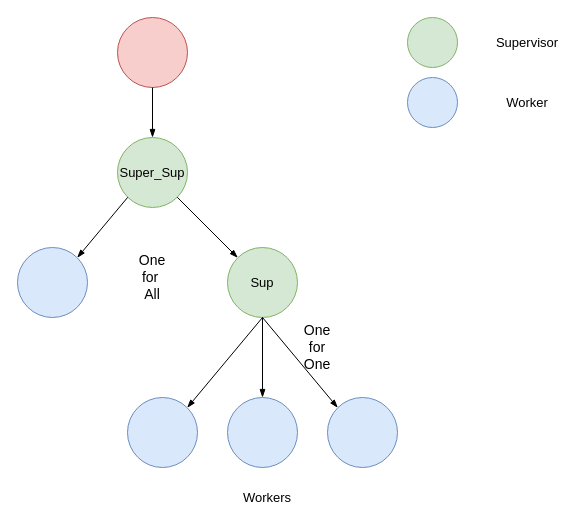
Image size: 576x525. Some labels were removed from this diagram. Each missing label, with the centre of its shape:
"App" belongs at (152,52).
"Dispatcher" belongs at (52,282).
